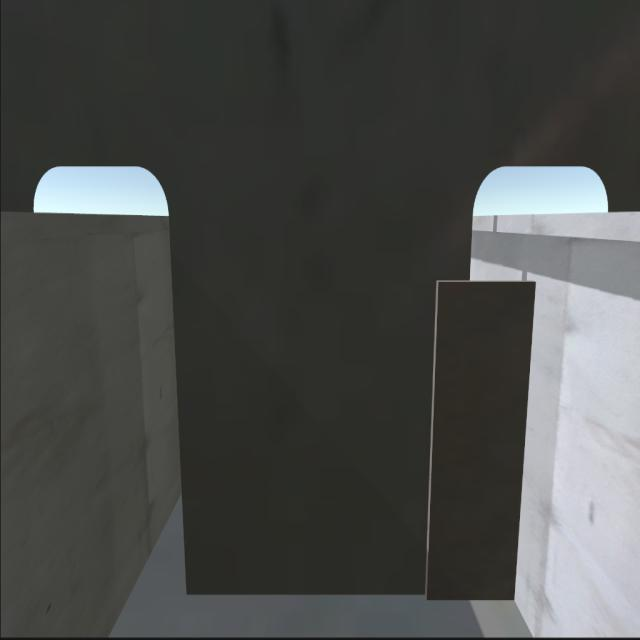fillet_yong_jeop_jang: (178, 574, 520, 612)
longi_yong_jeop_jang: (512, 274, 533, 604)
plate_CP01: (430, 273, 518, 600)
